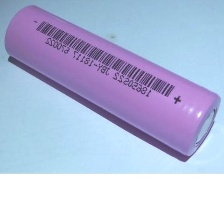battery: (1, 2, 223, 166)
